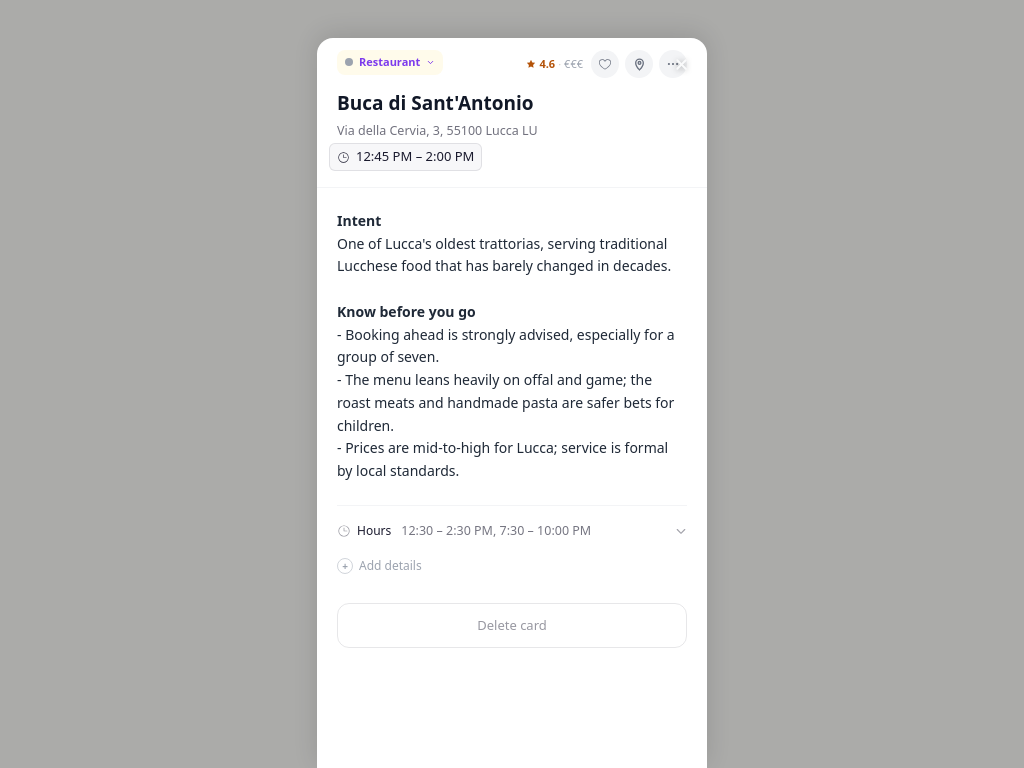
Test: CardBottomSheet — directions remember the app (6 Oct 2026, taps audit) › first time: the chooser, Google opens the route, and Remember (on by default) skips the chooser next time
The width and height of the screenshot is (1024, 768).
Click the button with aria-label "Directions to Via della Cervia, 3, 55100 Lucca LU, Italy".
click(437, 131)  # box [337,122,538,140]
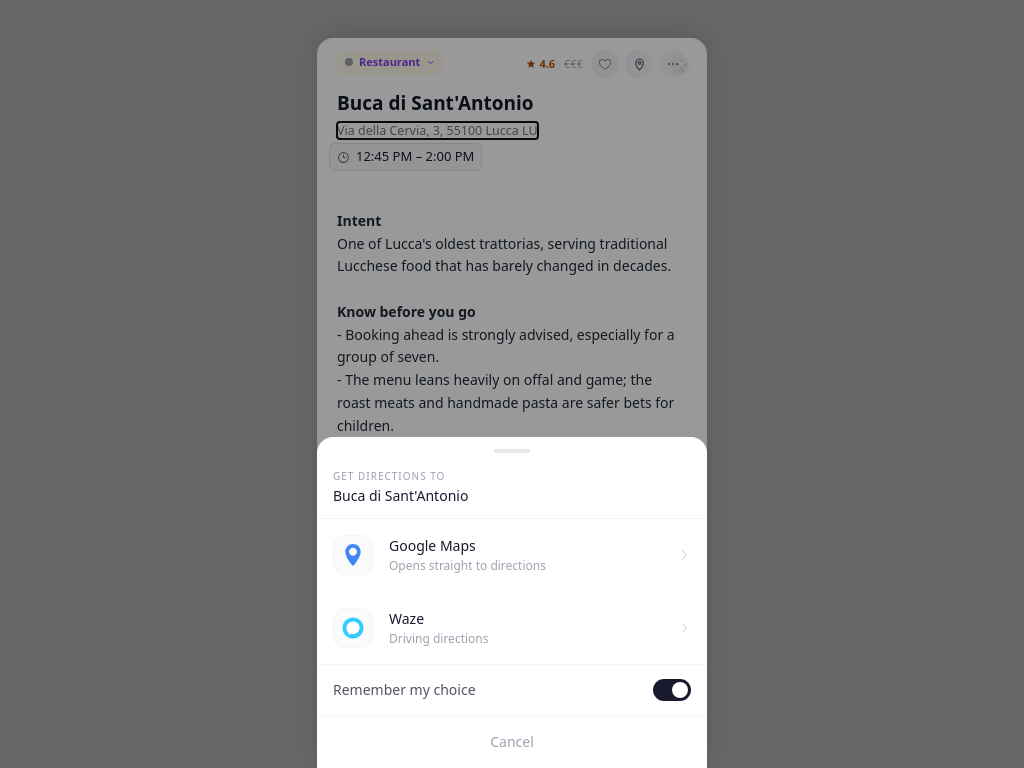
Now the text "Get directions to" is shown, box [333,469,445,483]
Click the text "Google Maps".
click(432, 546)  # box [389,536,476,555]
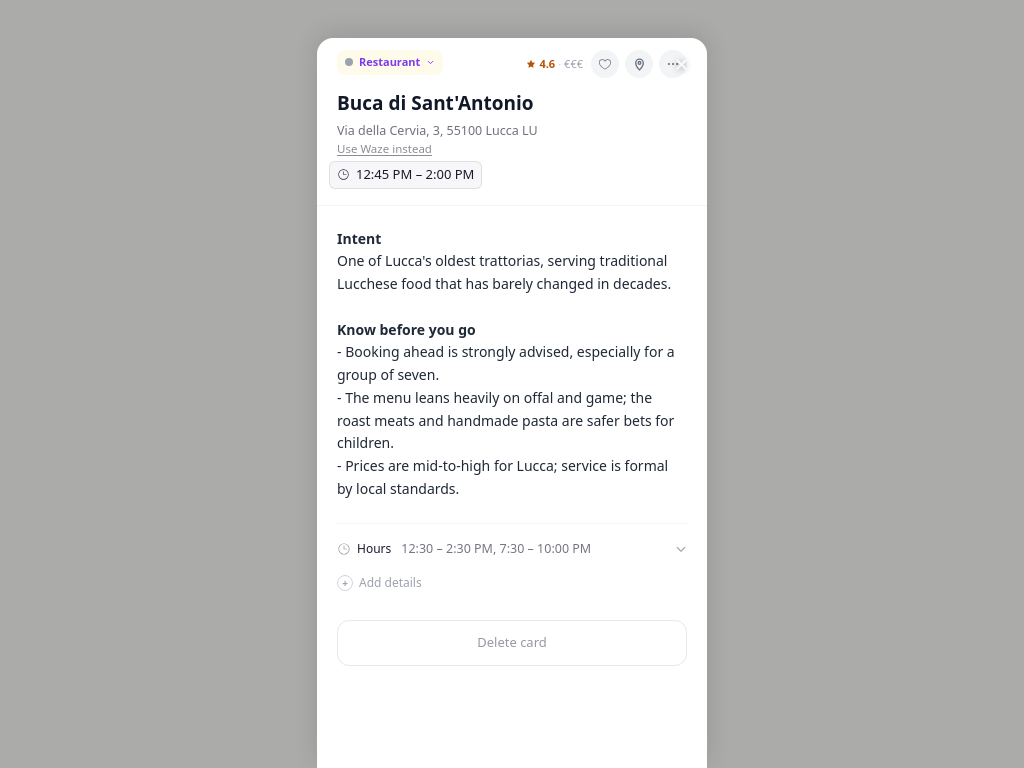
Click the button with aria-label "Directions to Via della Cervia, 3, 55100 Lucca LU, Italy".
click(437, 131)  # box [337,122,538,140]
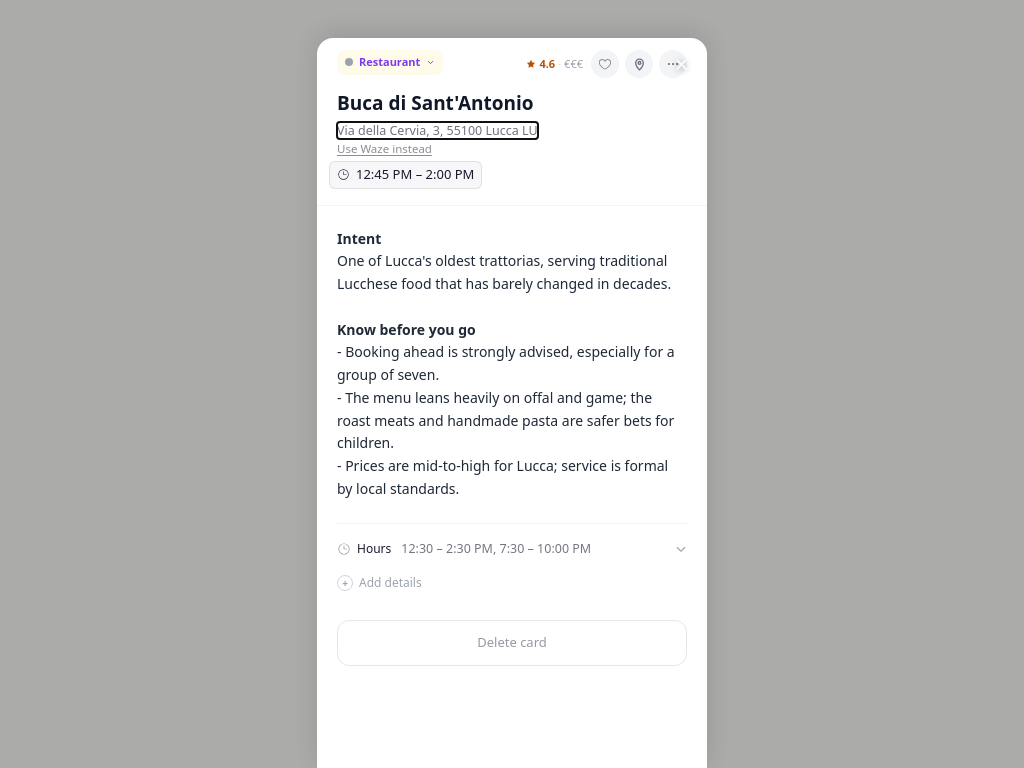
Expected: the text "Get directions to" is not shown
Click the button "Use Waze instead".
click(384, 150)  # box [337,142,432,158]
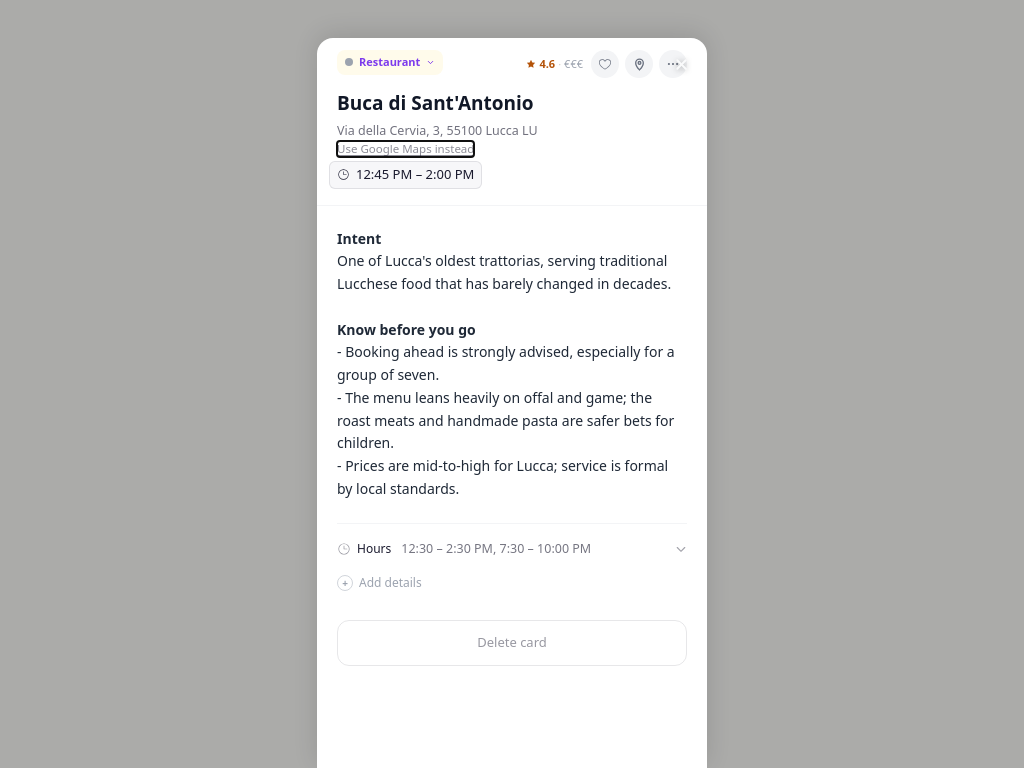
Now the button "Use Google Maps instead" is shown, box [337,142,474,158]
